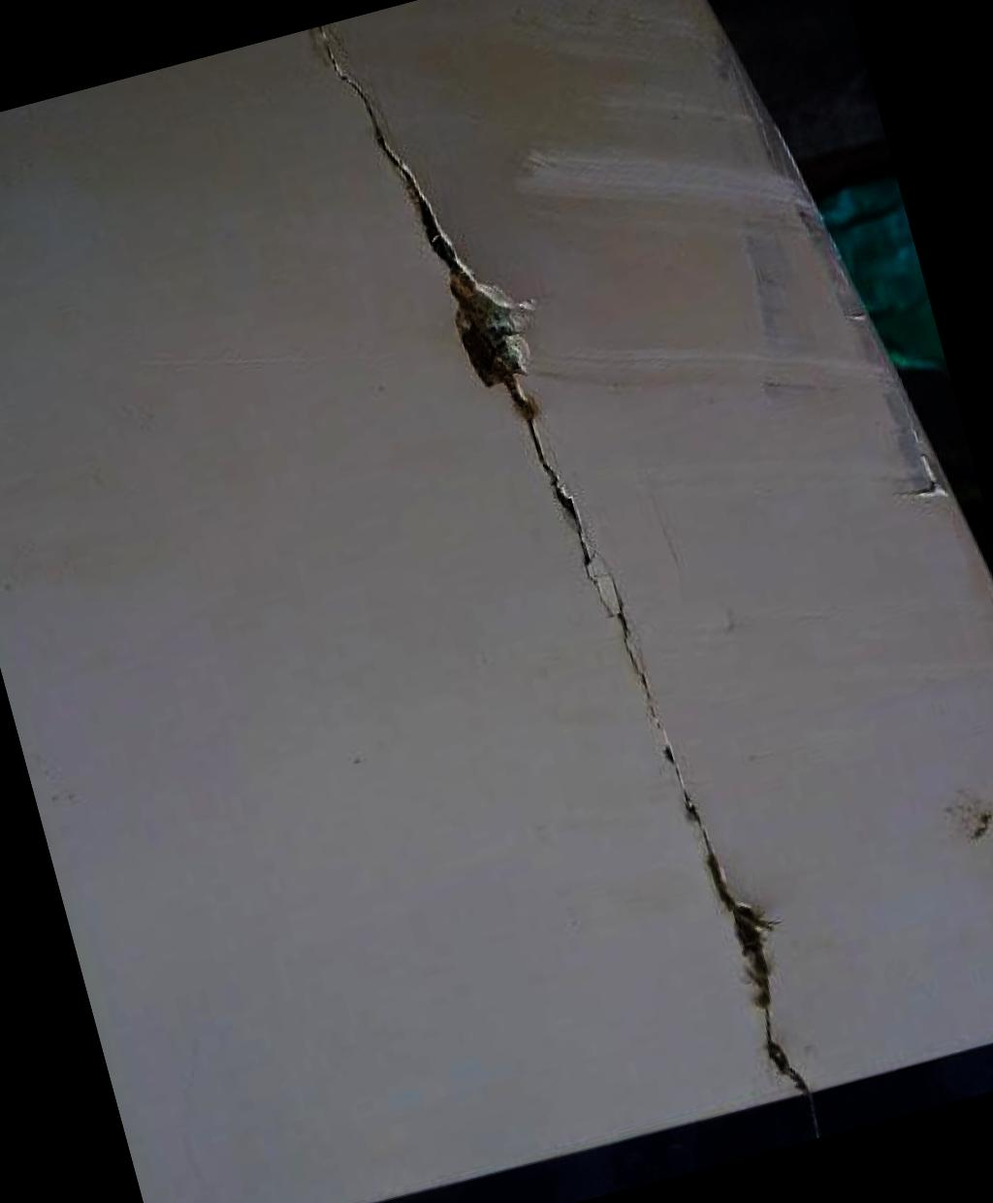crack: (301, 0, 841, 1193)
